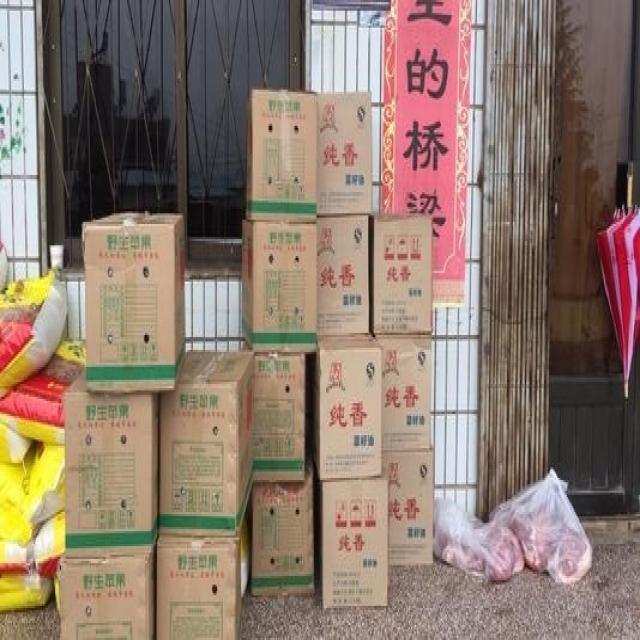box: (82, 210, 185, 394), (62, 366, 162, 553), (161, 349, 256, 534), (306, 333, 381, 482), (239, 218, 317, 358), (241, 89, 318, 223), (154, 529, 244, 638), (249, 445, 313, 597), (57, 542, 157, 638), (323, 473, 389, 611), (370, 203, 434, 333), (316, 90, 374, 216), (373, 333, 433, 450), (316, 213, 372, 337), (253, 352, 307, 480), (381, 448, 433, 563)
